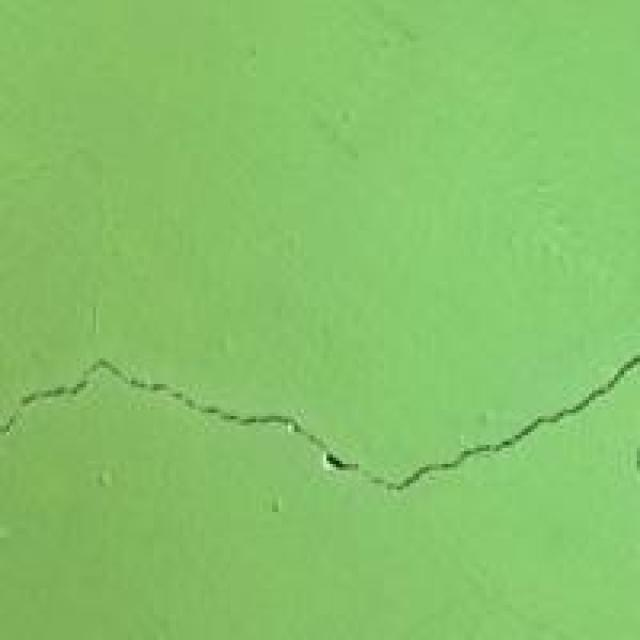crack: (0, 334, 640, 512)
